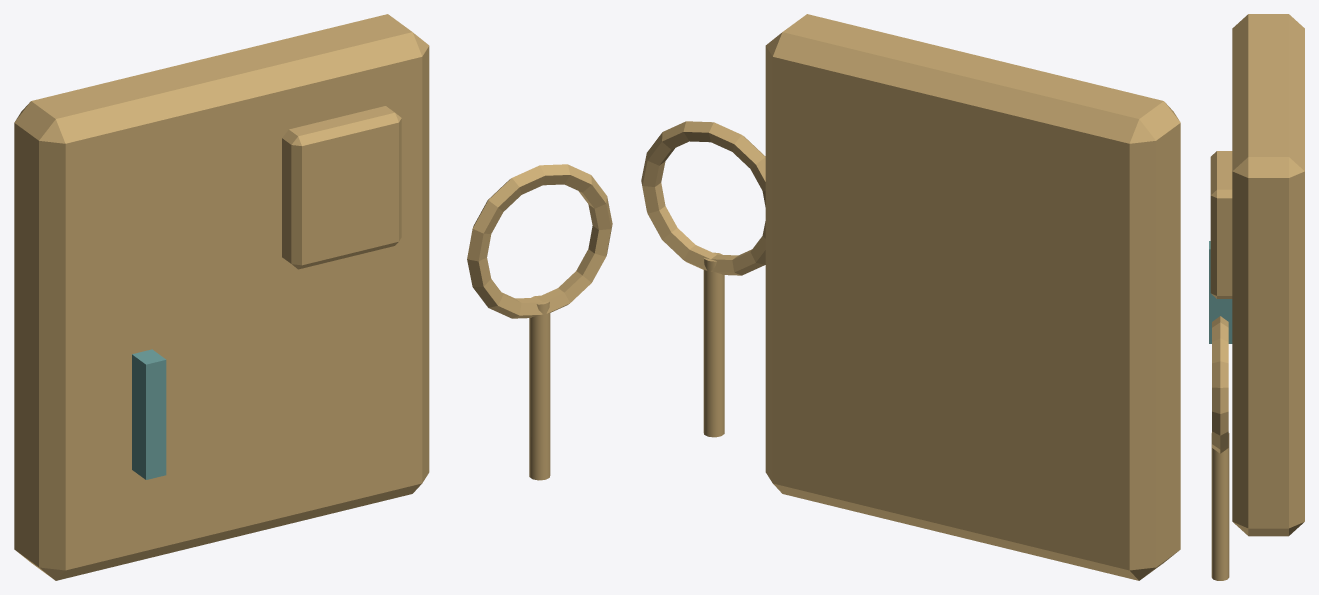
Rendered from blob_mechanic.glb.
3 renders of one model, left to right at view 1: azimuth 30°, elevation 25°; view 2: azimuth 150°, elevation 25°; view 3: azimuth 270°, elevation 25°, orthographic. The views are drawn at different scales.
Parts seen in each view (by area): view 1: blob_mechanic; view 2: blob_mechanic; view 3: blob_mechanic.
Boxes of the visible parts, box(x1,y1,x2,y2) form: blob_mechanic: box(14, 14, 612, 580); blob_mechanic: box(641, 14, 1180, 580); blob_mechanic: box(1209, 14, 1304, 580).
Bounding box in the file's own units: 0.3279 × 0.26 × 0.0595.
